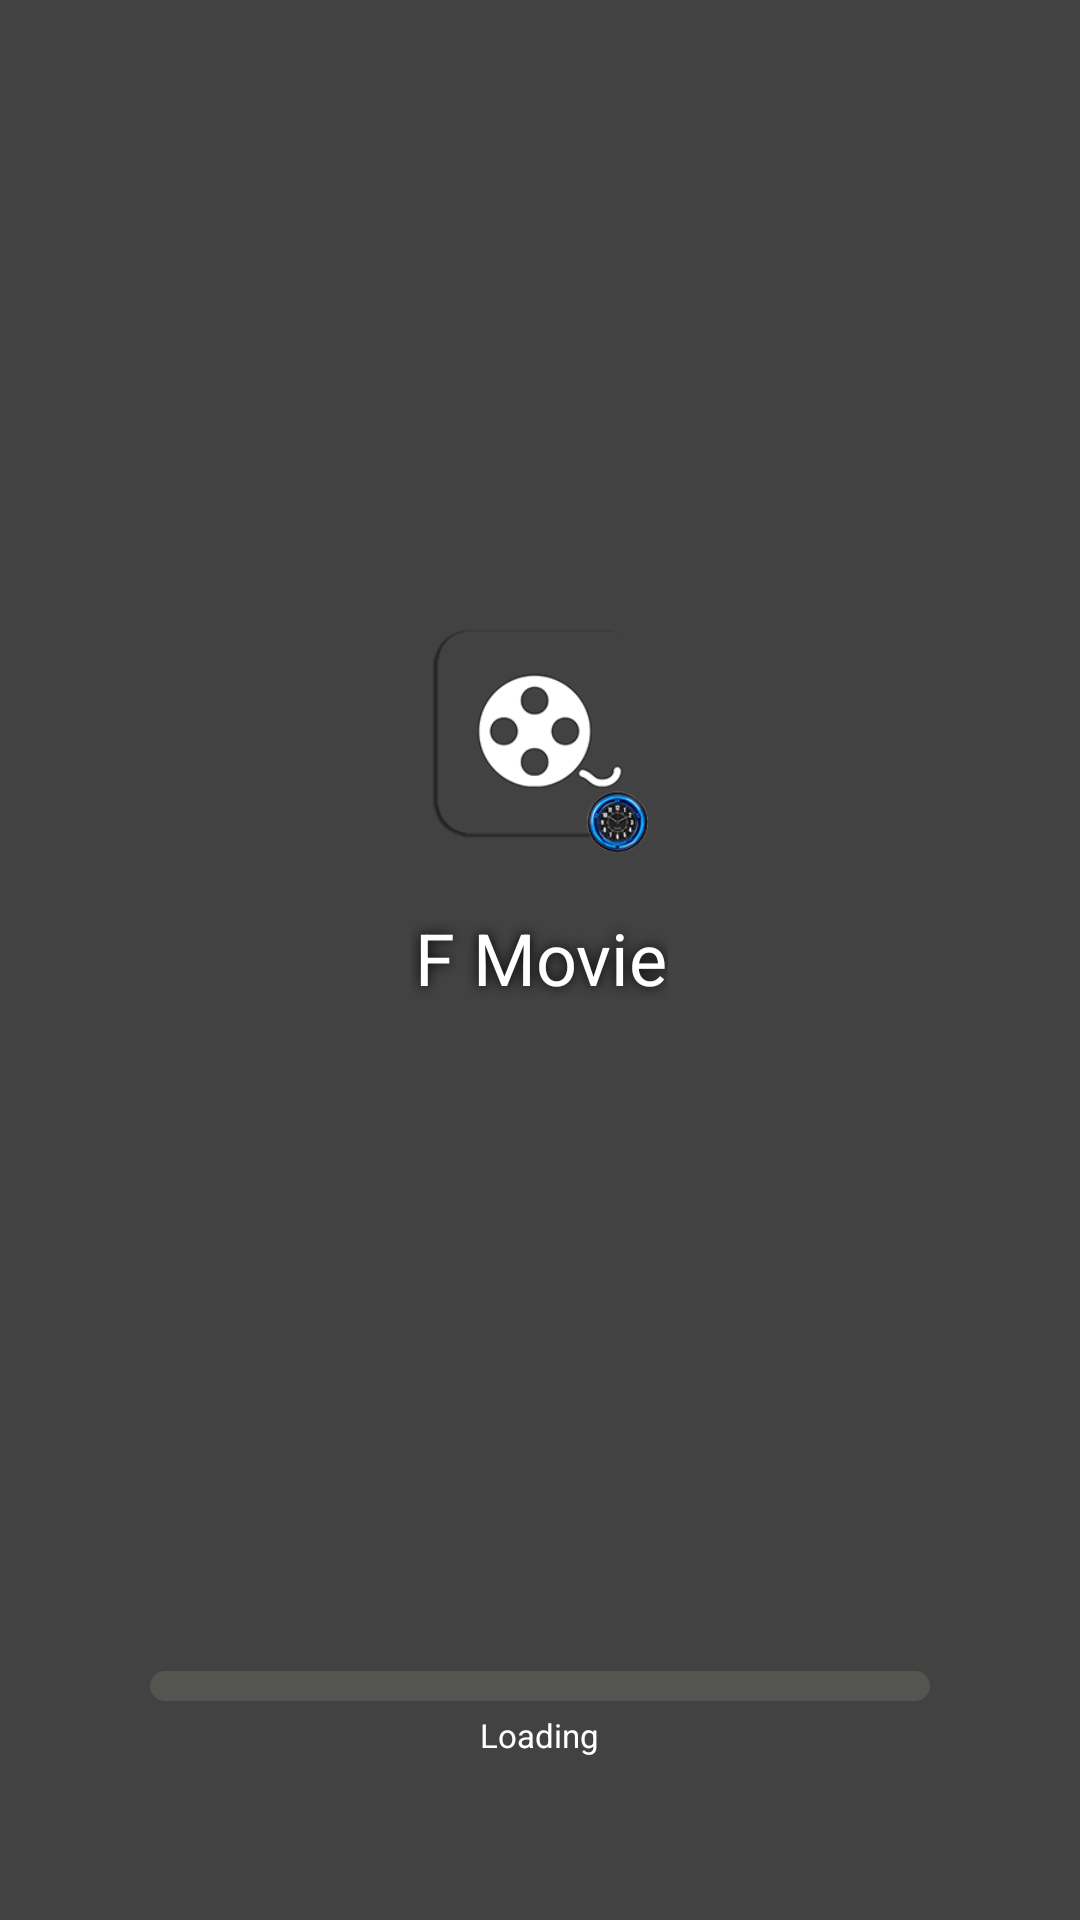

Where to tap for icons on this 1080 x 1920 app screen, as (x=x, y=y):
appicon: (x=541, y=747)
